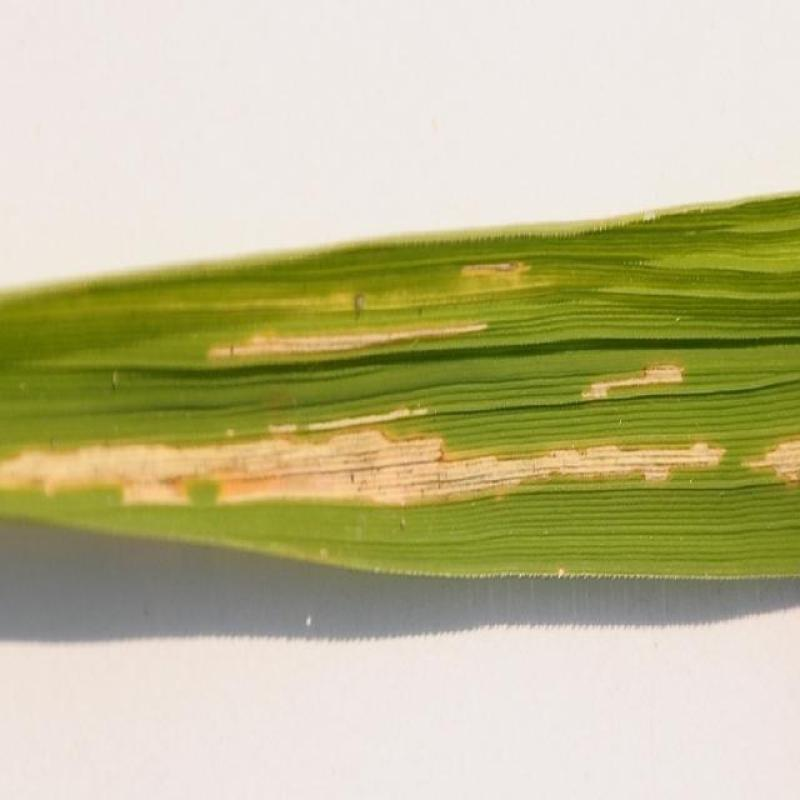Bacterial_Leaf_Blight: (0, 176, 800, 590)
